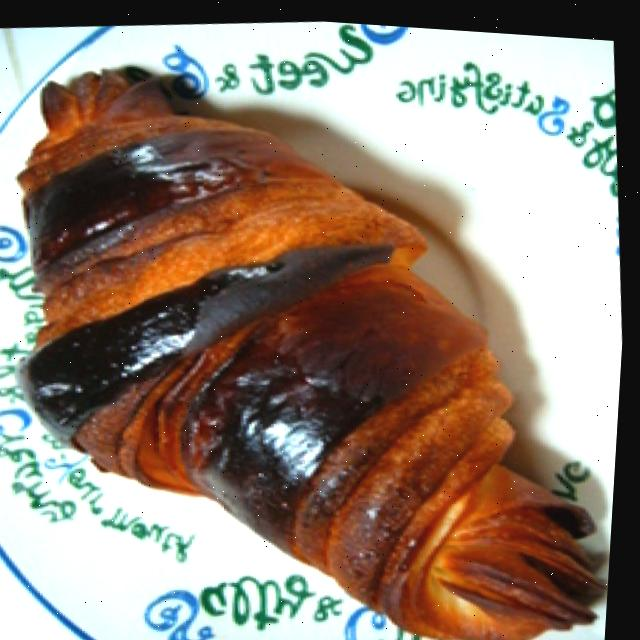面包点心: (0, 9, 640, 640)
